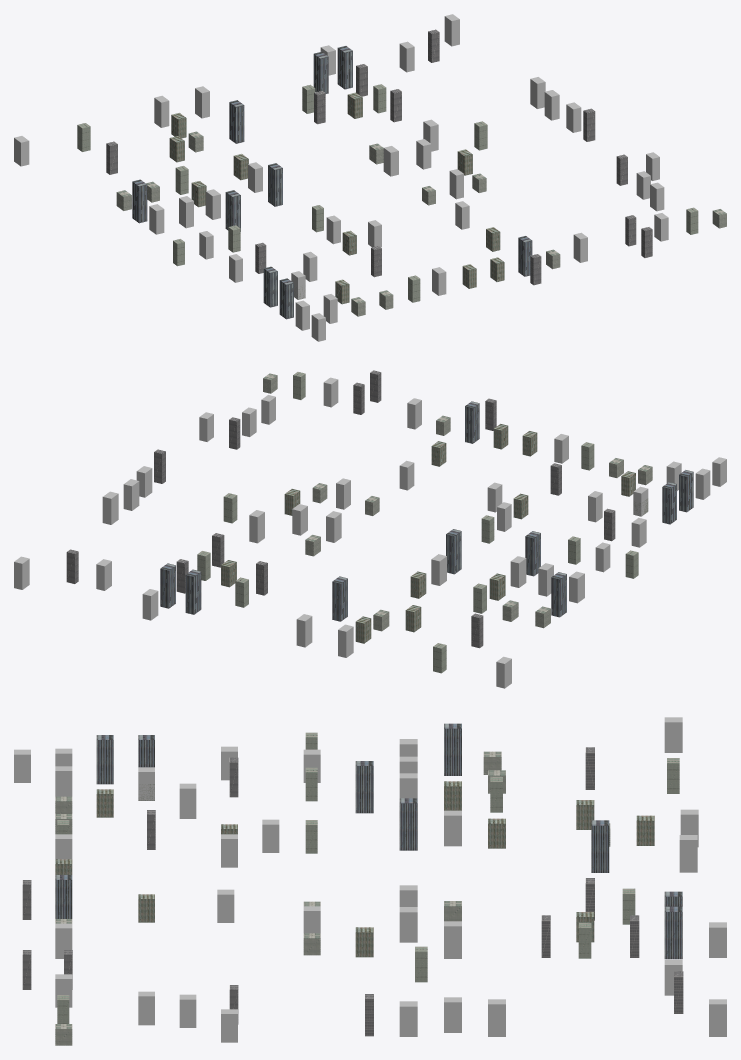
File: batiments2.obj
The picture shows the model from 3 angles, top to bottom: view 1: azimuth 30°, elevation 25°; view 2: azimuth 150°, elevation 25°; view 3: azimuth 270°, elevation 25°; orthographic projection. The views are drawn at different scales.
Visible parts, largest first — view 1: Cube.087_Cube.002; view 2: Cube.087_Cube.002; view 3: Cube.087_Cube.002.
Boxes of the visible parts, x1=… form: Cube.087_Cube.002: x1=14, y1=14, x2=726, y2=341; Cube.087_Cube.002: x1=14, y1=370, x2=726, y2=688; Cube.087_Cube.002: x1=14, y1=717, x2=726, y2=1045.
Size of the model in its own units: 3920 by 298 by 3995.
